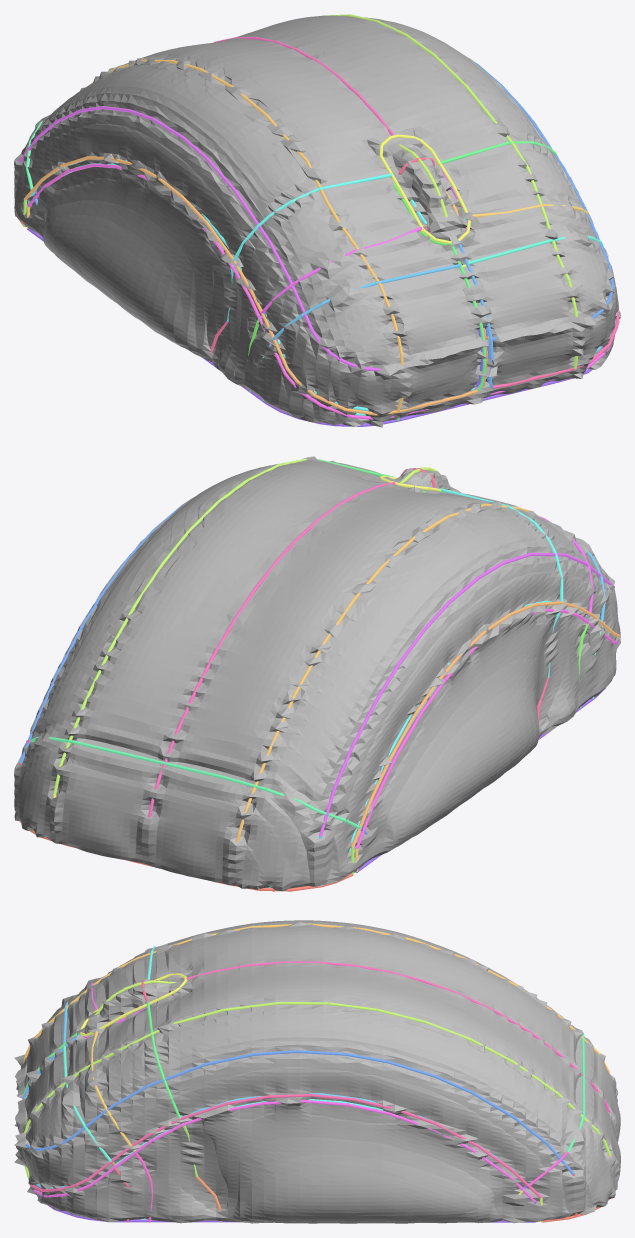
File: flowrep_mouse.gltf
The picture shows the model from 3 angles, top to bottom: view 1: azimuth 30°, elevation 25°; view 2: azimuth 150°, elevation 25°; view 3: azimuth 270°, elevation 25°; orthographic projection. The views are drawn at different scales.
Bounding box in the file's own units: 0.5445 × 0.3089 × 0.8574.
